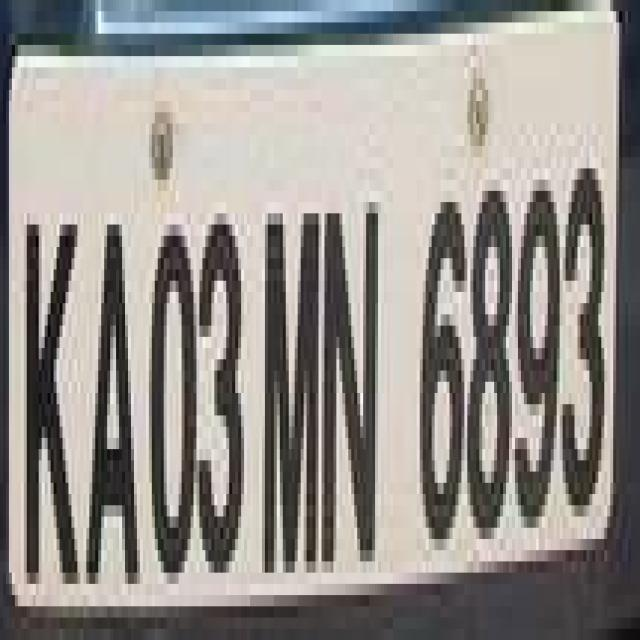license_plate: (0, 0, 613, 629)
